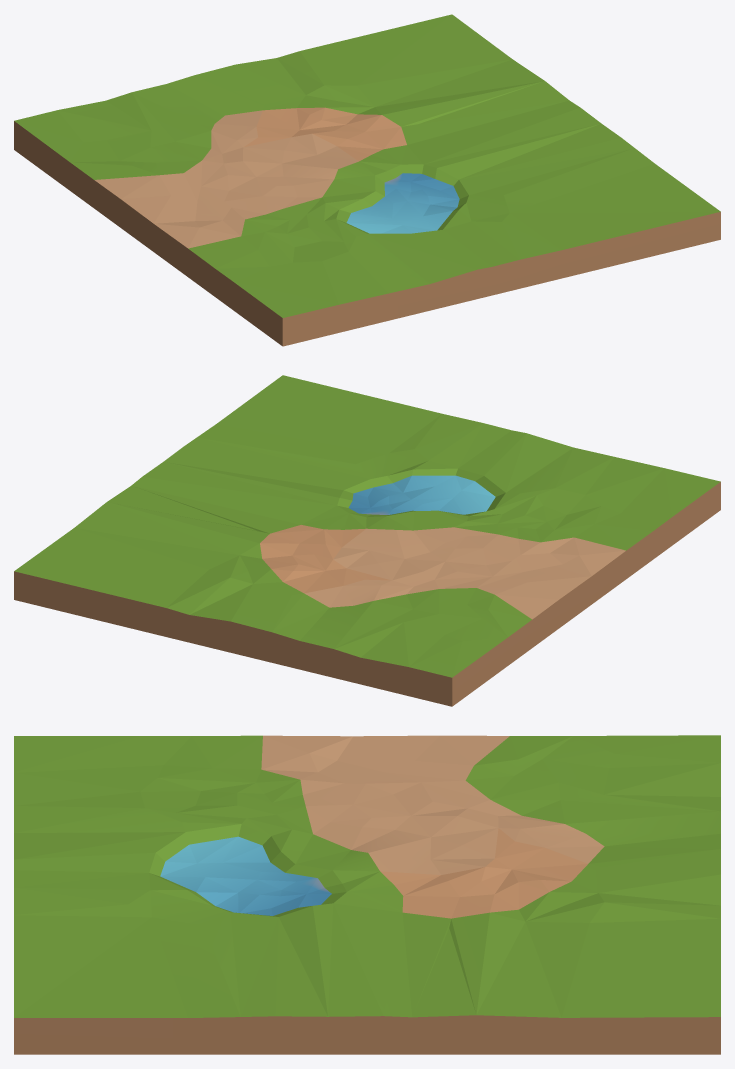
The model's file is land houses fall woods1.fbx.
The picture shows the model from 3 angles, top to bottom: view 1: azimuth 30°, elevation 25°; view 2: azimuth 150°, elevation 25°; view 3: azimuth 270°, elevation 25°; orthographic projection. The views are drawn at different scales.
Parts seen in each view (by area): view 1: land houses fall woods; view 2: land houses fall woods; view 3: land houses fall woods.
Boxes of the visible parts, box(x1,y1,x2,y2) form: land houses fall woods: box(14, 14, 720, 346); land houses fall woods: box(14, 375, 720, 706); land houses fall woods: box(14, 735, 720, 1054).
Size of the model in its own units: 6830 by 482 by 7257.
